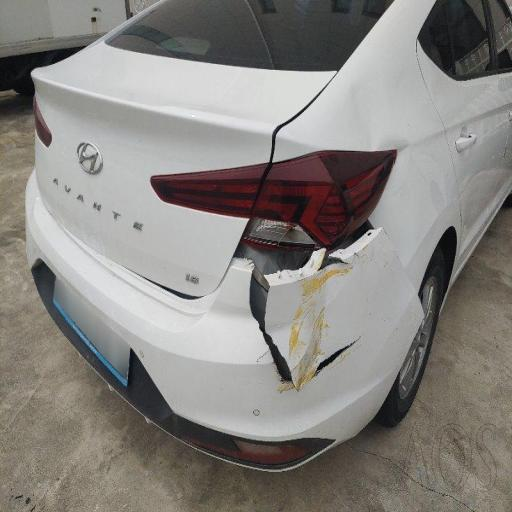broken: (165, 163, 399, 396)
